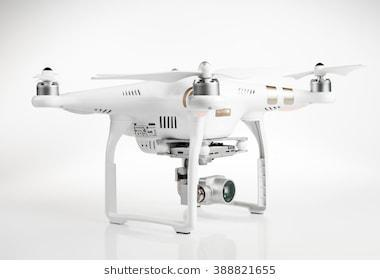drone: (27, 53, 359, 239)
